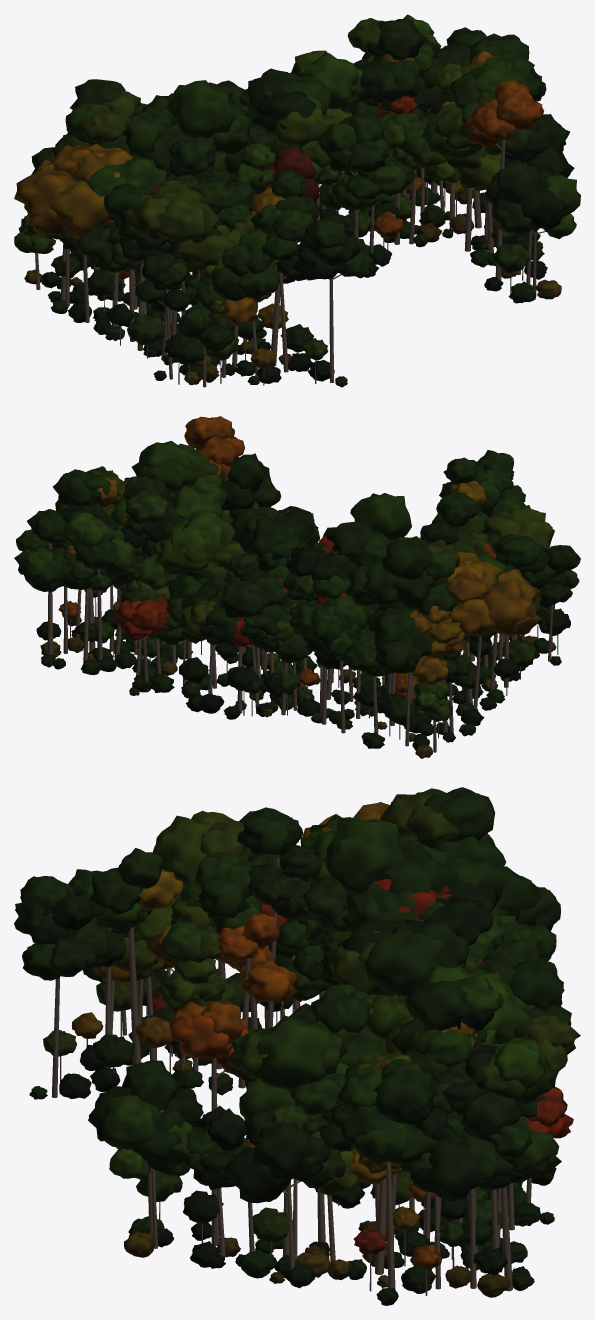
File: woods.fbx
3 renders of one model, top to bottom at view 1: azimuth 30°, elevation 25°; view 2: azimuth 150°, elevation 25°; view 3: azimuth 270°, elevation 25°, orthographic. The views are drawn at different scales.
Parts seen in each view (by area): view 1: woods; view 2: woods; view 3: woods.
Boxes of the visible parts, x1=… form: woods: x1=14, y1=14, x2=580, y2=387; woods: x1=14, y1=416, x2=580, y2=758; woods: x1=14, y1=787, x2=580, y2=1305.
Bounding box in the file's own units: 180 × 71.58 × 132.
